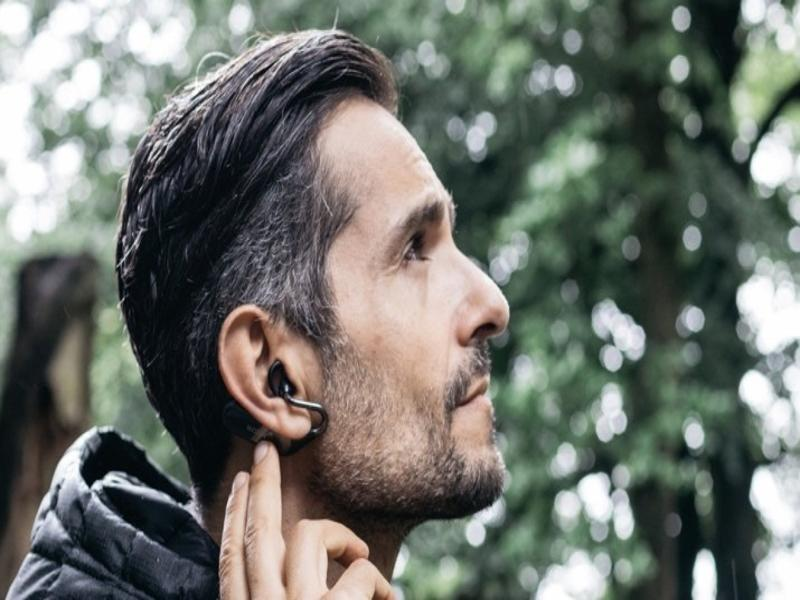headphone: (266, 359, 307, 403)
